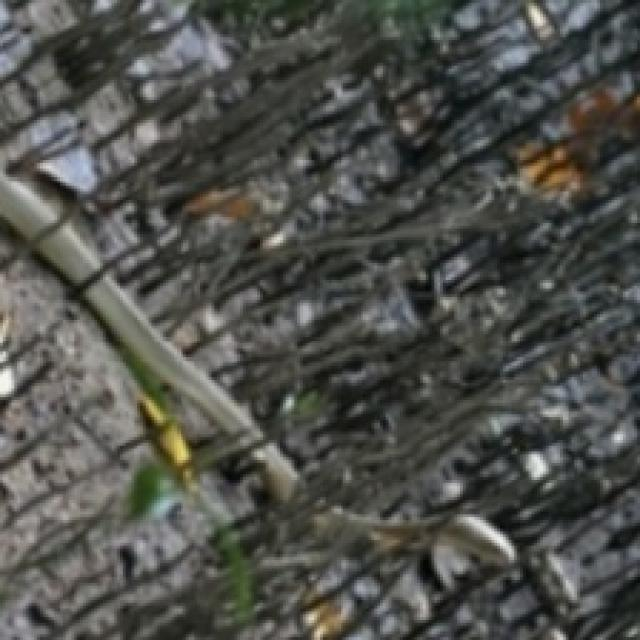king cobra: (0, 0, 637, 637), (306, 503, 517, 569)
